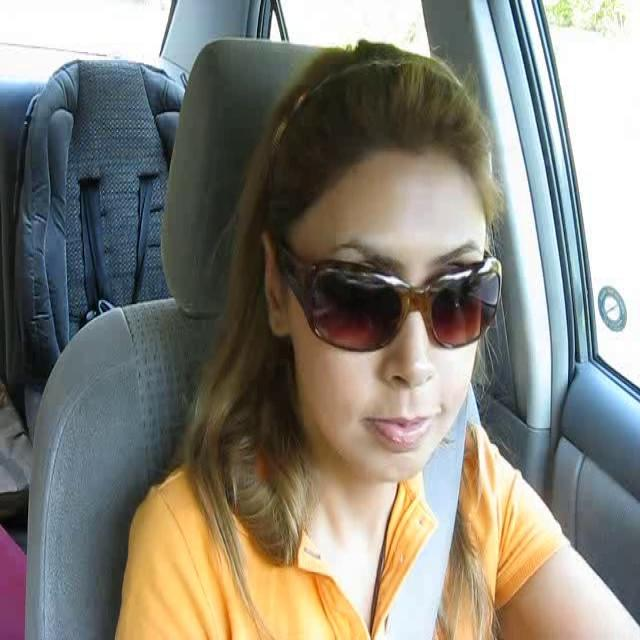close: (363, 406, 438, 450)
